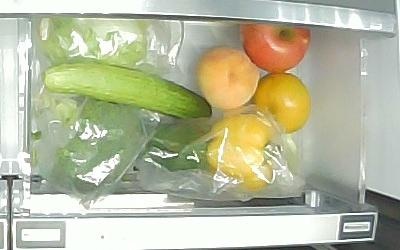apple: (239, 21, 314, 72)
broccoli_vinyl: (36, 95, 148, 192)
cucumber: (39, 61, 214, 118)
lettuce_vinyl: (34, 18, 150, 63)
paprika_vinyl: (206, 113, 281, 189), (139, 121, 209, 175)
peach: (197, 46, 261, 110)
persimmon: (257, 73, 312, 134)
